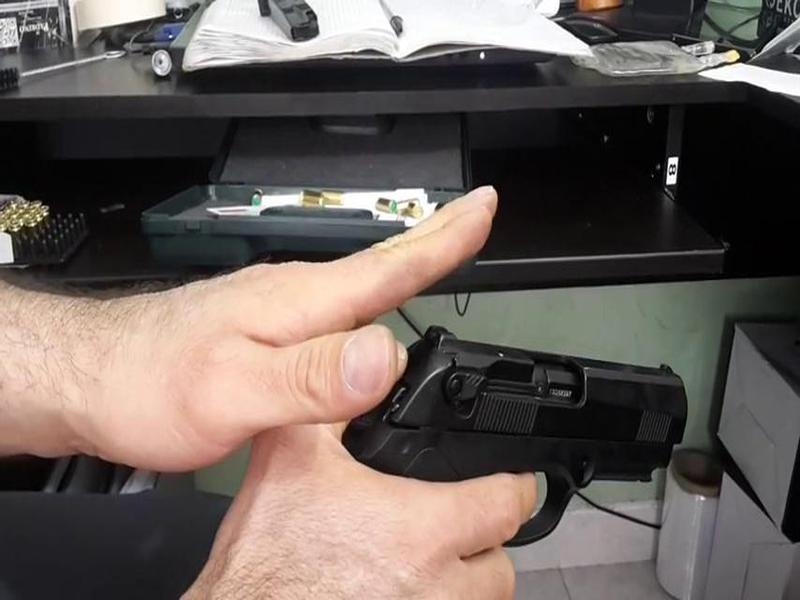Pistola: (325, 303, 727, 562)
